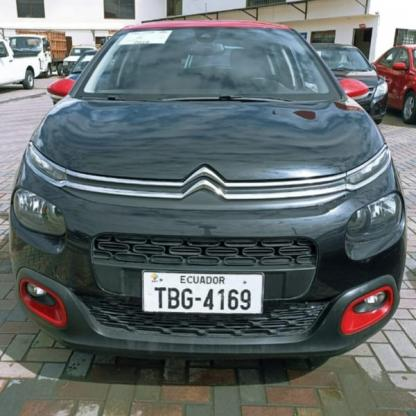Placa: (140, 270, 266, 316)
